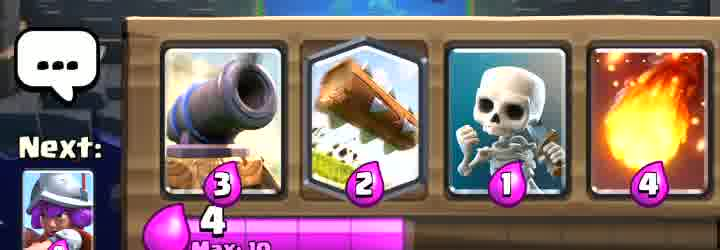cannon: (173, 49, 285, 191)
fireball: (595, 47, 710, 193)
log: (310, 43, 424, 192)
musketeer: (24, 171, 93, 250)
